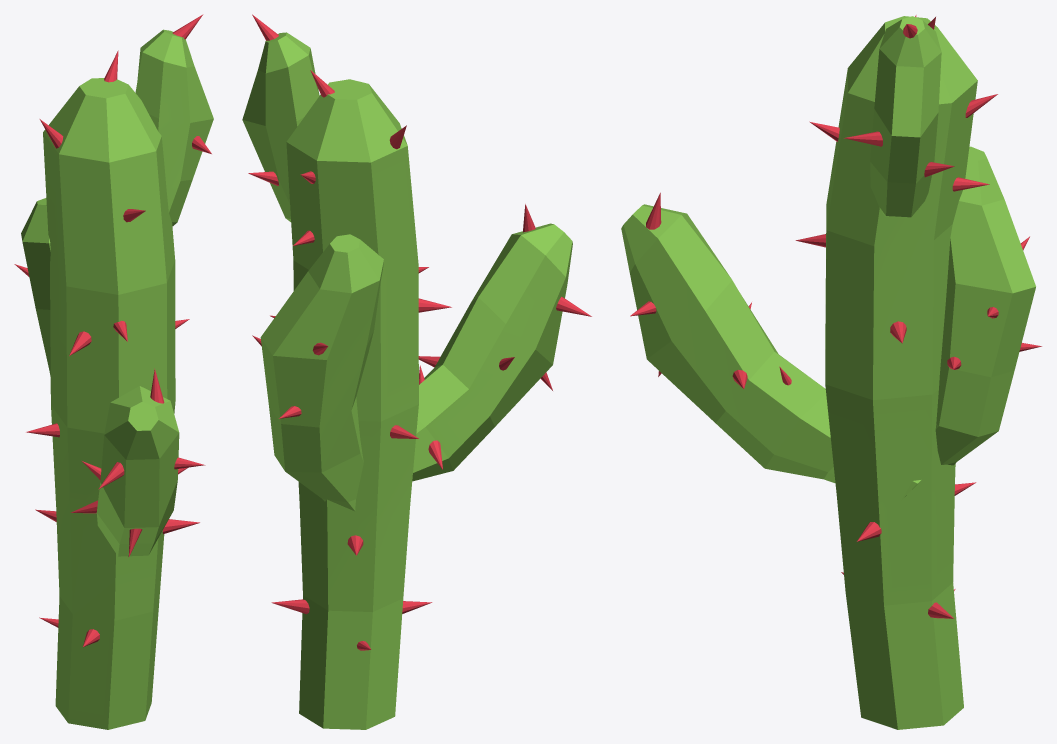
File: Cactus3.fbx
The picture shows the model from 3 angles, left to right: view 1: azimuth 30°, elevation 25°; view 2: azimuth 150°, elevation 25°; view 3: azimuth 270°, elevation 25°; orthographic projection. The views are drawn at different scales.
Visible parts, largest first — view 1: Desert.036; view 2: Desert.036; view 3: Desert.036.
Boxes of the visible parts, x1,y1,x2,y2 form: Desert.036: (14, 14, 213, 729); Desert.036: (242, 14, 591, 729); Desert.036: (621, 15, 1041, 729).
Bounding box in the file's own units: 0.9427 × 2.67 × 1.39.
